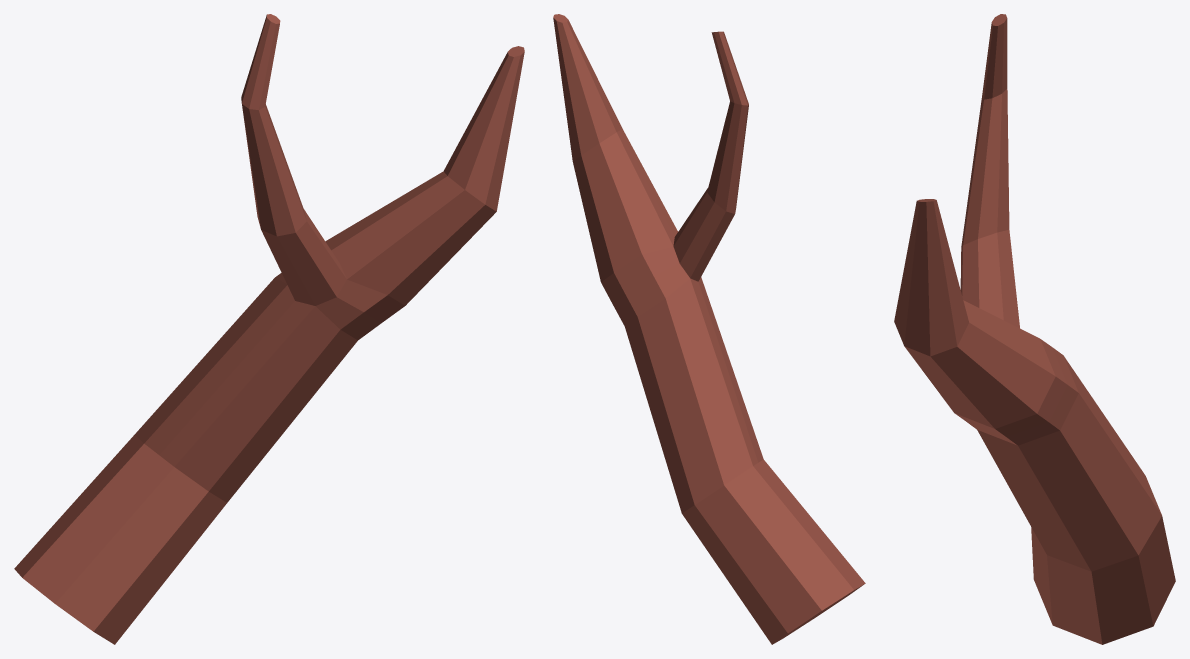
Rendered from Tree_Limb_1.fbx.
The picture shows the model from 3 angles, left to right: view 1: azimuth 30°, elevation 25°; view 2: azimuth 150°, elevation 25°; view 3: azimuth 270°, elevation 25°; orthographic projection. The views are drawn at different scales.
Parts seen in each view (by area): view 1: Trunk_2.002; view 2: Trunk_2.002; view 3: Trunk_2.002.
Part boxes in pixels (box(x1,y1,x2,y2)): Trunk_2.002: box(14, 14, 524, 644); Trunk_2.002: box(553, 14, 865, 644); Trunk_2.002: box(894, 14, 1175, 644).
Size of the model in its own units: 112 by 159 by 58.62.
